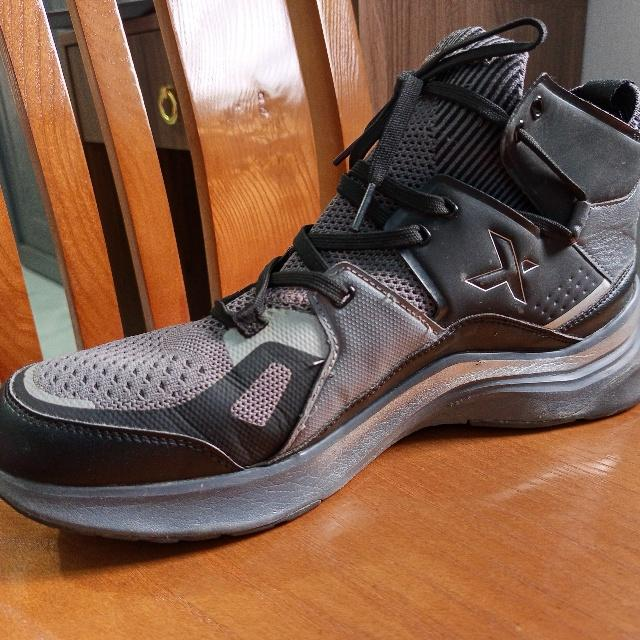broken: (296, 404, 319, 435), (384, 290, 398, 303)
